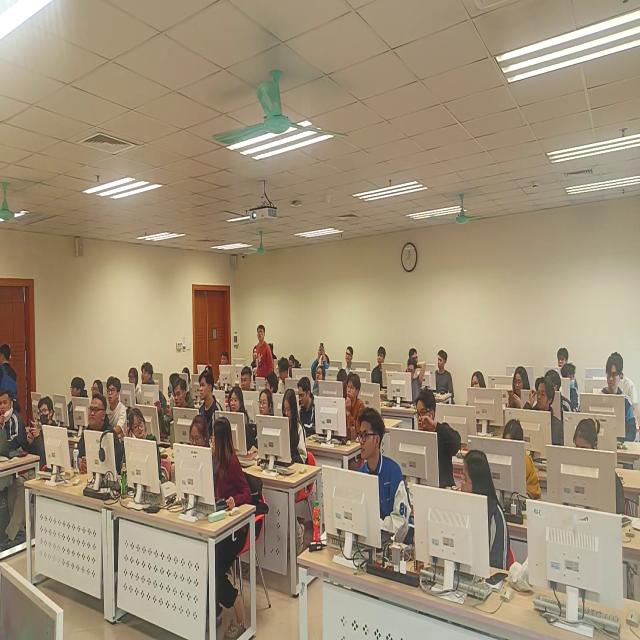raise_head: (335, 411, 403, 545), (403, 389, 457, 486), (594, 359, 636, 446), (74, 396, 112, 481), (519, 382, 562, 449), (325, 377, 365, 447), (126, 407, 160, 484), (466, 365, 494, 419), (250, 390, 274, 451), (166, 379, 193, 427), (196, 373, 217, 426), (224, 389, 248, 433), (138, 361, 155, 418), (369, 346, 391, 390), (106, 378, 123, 428), (274, 361, 291, 398), (239, 364, 257, 396), (122, 363, 137, 400), (341, 344, 357, 378), (219, 346, 230, 379), (553, 351, 570, 368)
stand: (255, 321, 276, 384), (1, 336, 18, 401)
using_computer: (558, 421, 623, 510), (184, 418, 243, 516), (488, 423, 537, 500), (274, 393, 301, 468), (390, 357, 426, 410), (56, 377, 87, 432), (421, 346, 456, 392), (296, 380, 318, 434)
using_phone: (20, 397, 58, 501), (502, 363, 531, 417), (312, 342, 330, 375)
